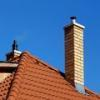chimneys: (5, 40, 24, 62)
